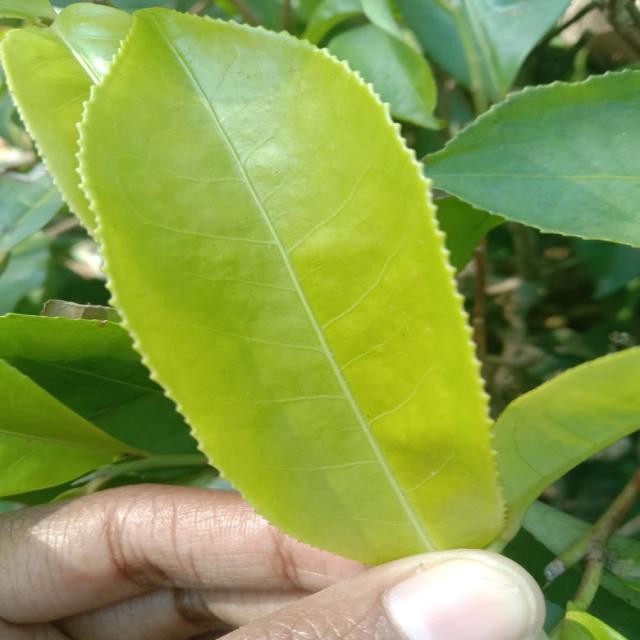Category B 2-4 days: (66, 0, 521, 597)
